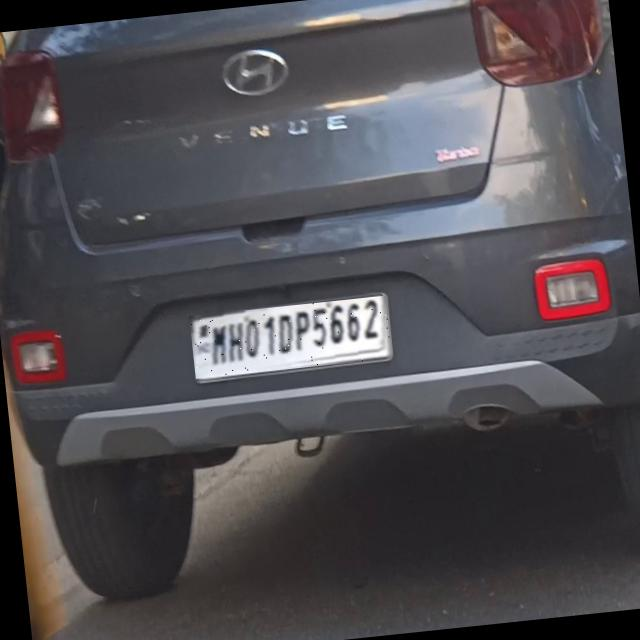Plate: (190, 296, 392, 379)
